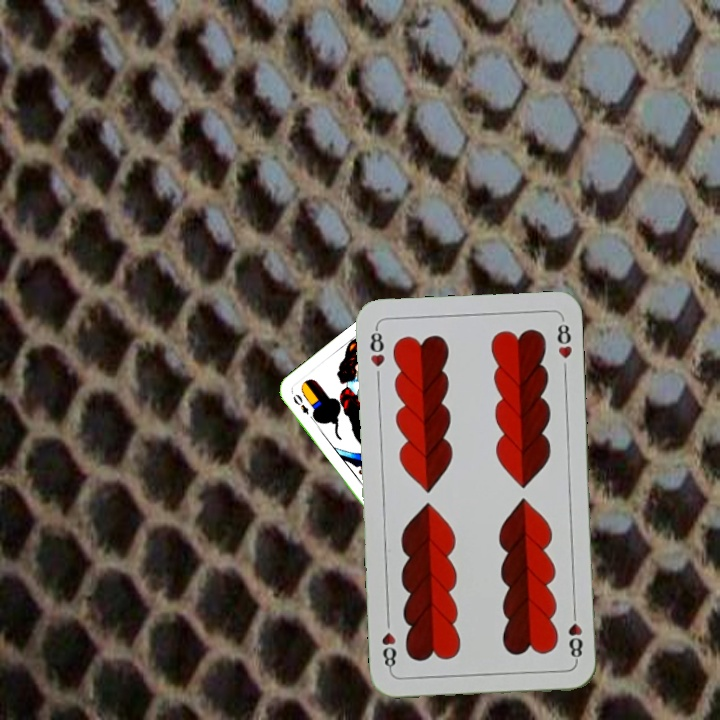EO: (289, 390, 318, 424)
H8: (564, 605, 585, 664), (366, 323, 388, 370)
